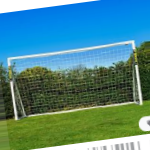goals: (6, 39, 144, 121)
